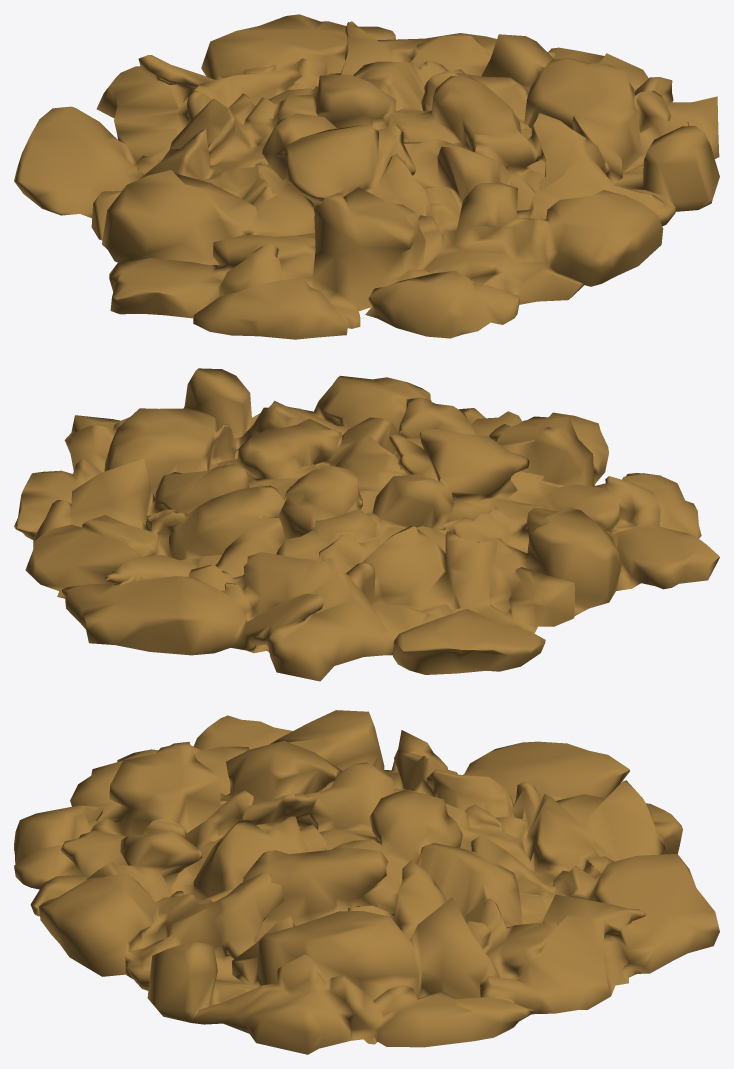
File: MSH_Rock_Many_02.FBX
3 renders of one model, top to bottom at view 1: azimuth 30°, elevation 25°; view 2: azimuth 150°, elevation 25°; view 3: azimuth 270°, elevation 25°, orthographic. The views are drawn at different scales.
Visible parts, largest first — view 1: MESH_LOD0; view 2: MESH_LOD0; view 3: MESH_LOD0.
Boxes of the visible parts, x1=… form: MESH_LOD0: x1=14, y1=14, x2=719, y2=339; MESH_LOD0: x1=14, y1=368, x2=719, y2=681; MESH_LOD0: x1=14, y1=710, x2=719, y2=1054.
Size of what is drawn, in the model's own units: 155 by 24.19 by 144.
